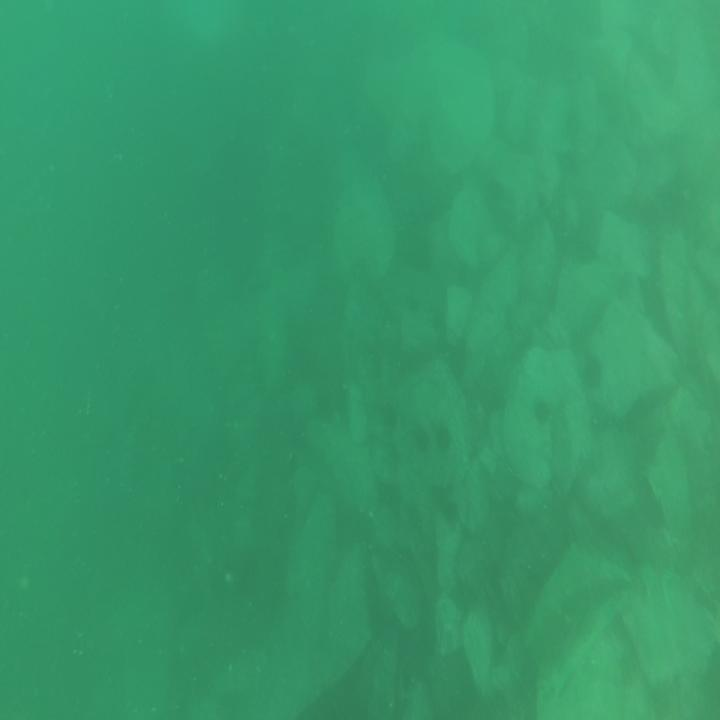echinus: (432, 416, 454, 456), (581, 350, 602, 388), (444, 494, 463, 534), (415, 420, 435, 455), (533, 394, 549, 423)
